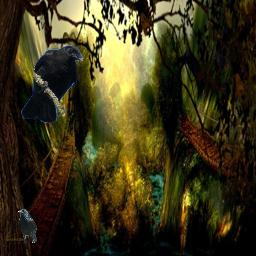Crow: (21, 45, 84, 124), (18, 209, 37, 243)
